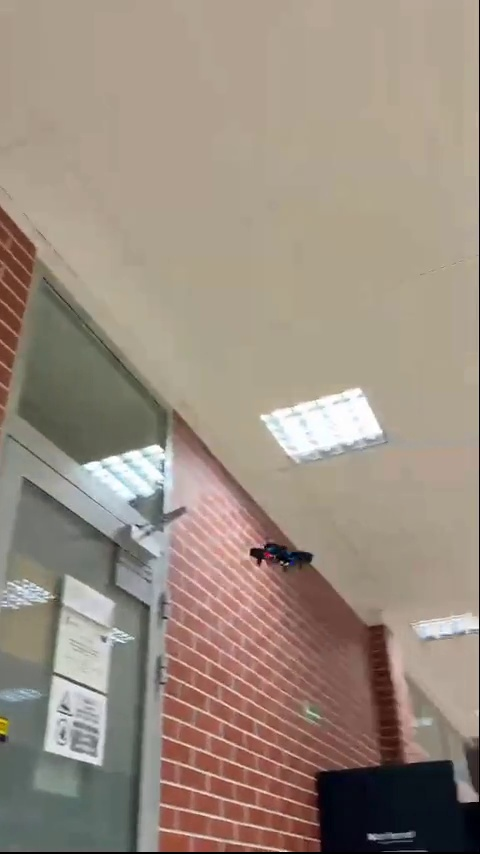drone: (248, 536, 309, 578)
